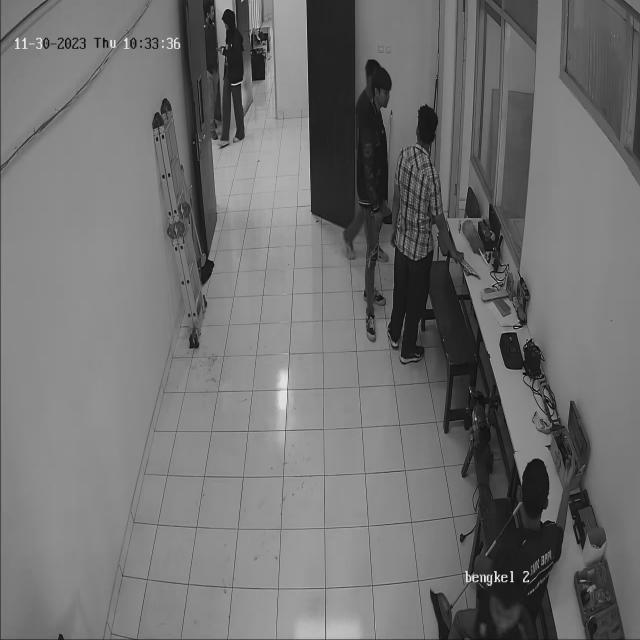person: (349, 49, 391, 371), (397, 88, 442, 366), (219, 2, 249, 149)
